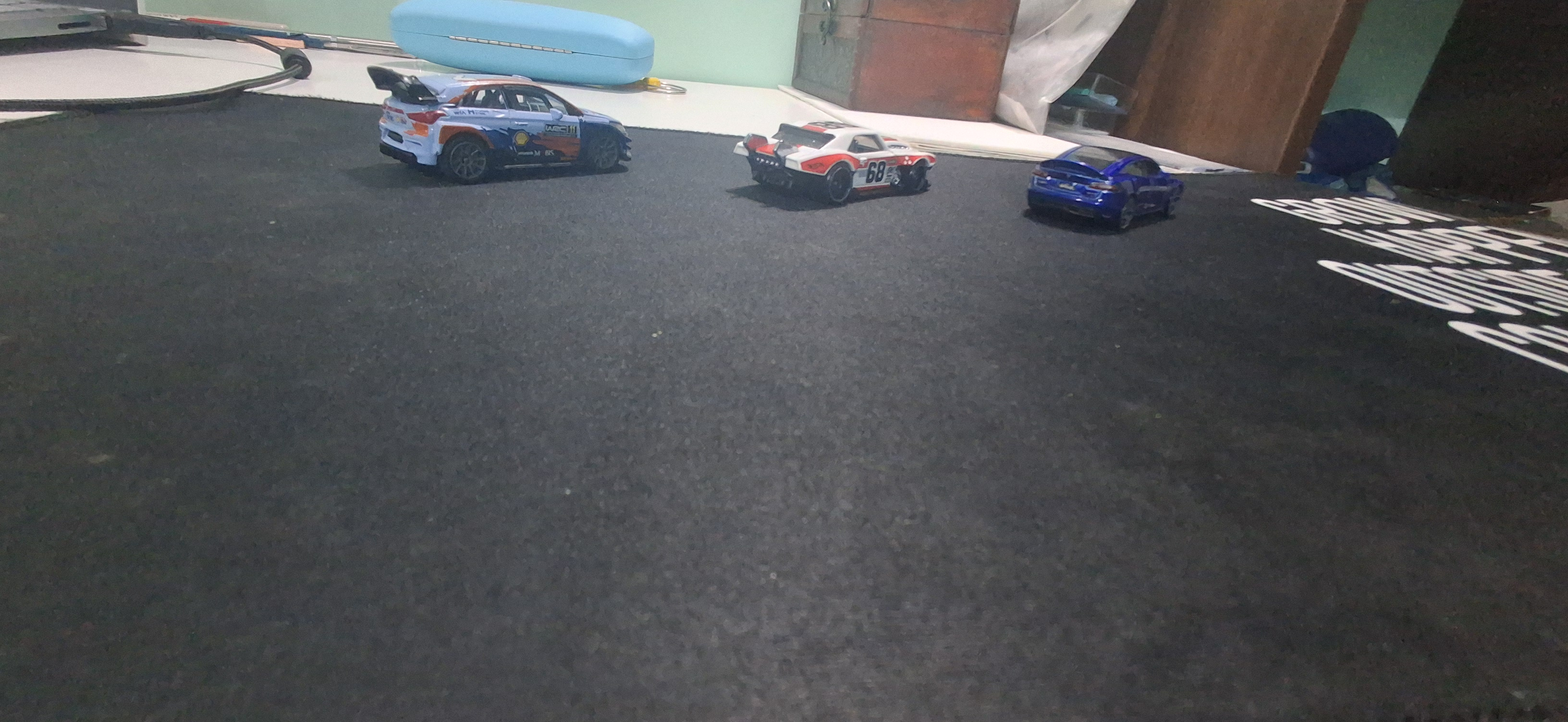Camaro: (718, 105, 966, 215)
Hyundai_I20_WRC: (333, 47, 653, 201)
Tesla_Model_S_Plaid: (995, 141, 1203, 241)
